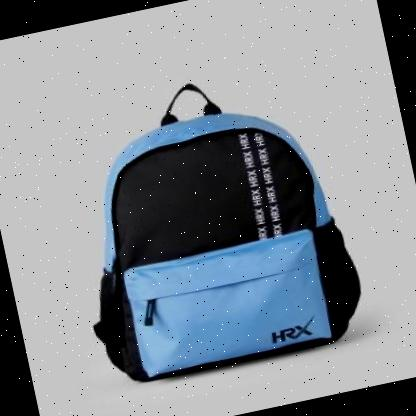bag: (43, 51, 382, 401)
